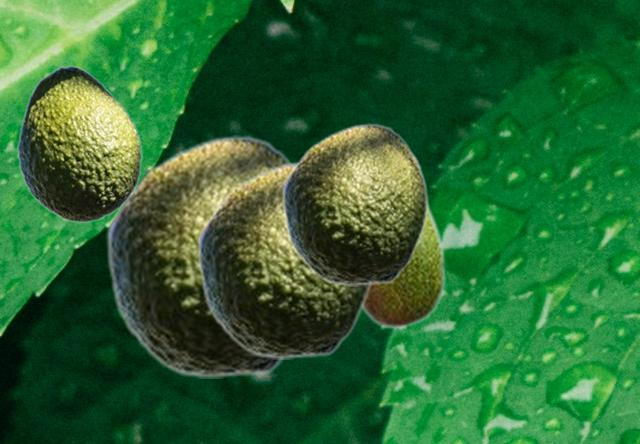avocado: (105, 135, 295, 377), (196, 161, 374, 358), (281, 123, 427, 285), (16, 65, 141, 222), (362, 147, 445, 329)
